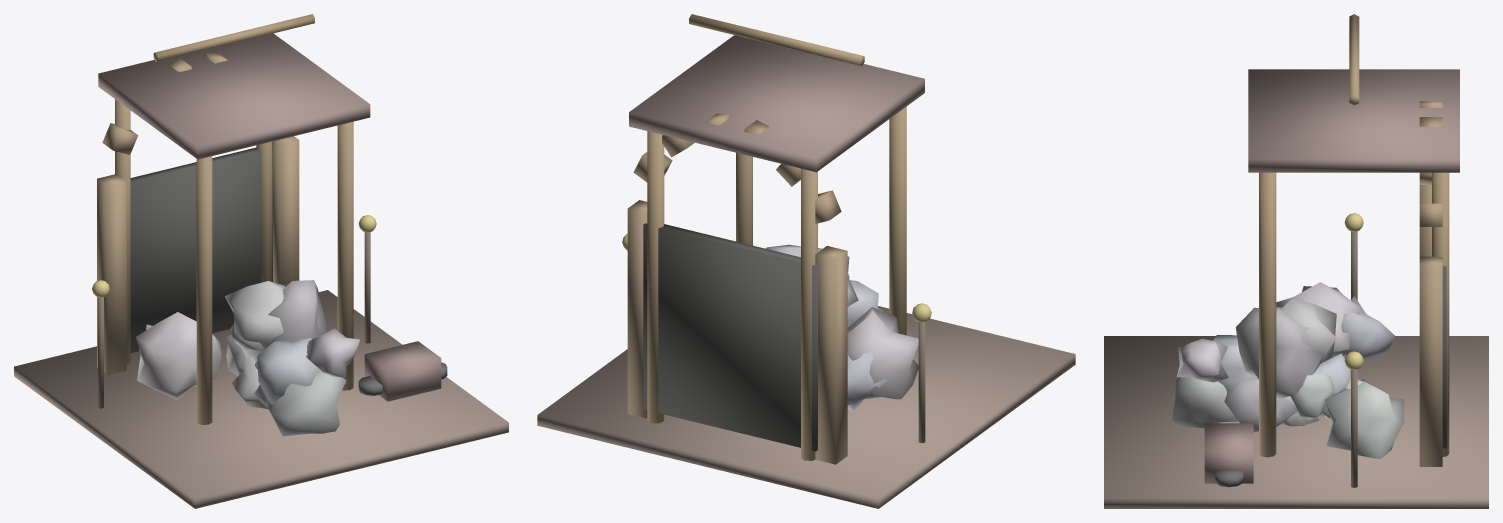
Rendered from ore_silver_large.glb.
3 renders of one model, left to right at view 1: azimuth 30°, elevation 25°; view 2: azimuth 150°, elevation 25°; view 3: azimuth 270°, elevation 25°, orthographic. The views are drawn at different scales.
Visible parts, largest first — view 1: ore_base, tower_platform, arch_dark, arch_post-1, tower_post2, ore10, arch_post1, tower_post3, cart_body, ore4, ore12, ore11 (+10 smaller); view 2: ore_base, arch_dark, tower_platform, arch_post-1, ore10, tower_post1, tower_post2, arch_post1, tower_post0, tower_beam, tower_post3, ore7 (+3 smaller); view 3: ore_base, tower_platform, tower_post3, arch_post1, ore2, ore15, cart_body, ore4, tower_post1, ore12, ore7, ore13 (+12 smaller).
Boxes of the visible parts, box(x1,y1,x2,y2) form: ore_base: box(14, 290, 508, 508); tower_platform: box(98, 33, 370, 159); arch_dark: box(130, 147, 272, 353); arch_post-1: box(97, 174, 126, 375); tower_post2: box(196, 156, 212, 424); ore10: box(135, 312, 222, 399); arch_post1: box(272, 136, 299, 284); tower_post3: box(337, 121, 353, 390); cart_body: box(364, 341, 441, 401); ore4: box(266, 370, 346, 436); ore12: box(225, 281, 284, 361); ore11: box(257, 338, 318, 404); ore_base: box(537, 306, 1075, 508); arch_dark: box(643, 223, 817, 451); tower_platform: box(629, 35, 924, 172); arch_post-1: box(815, 246, 847, 464); ore10: box(847, 307, 918, 399); tower_post1: box(647, 131, 664, 423); tower_post2: box(889, 106, 906, 335); arch_post1: box(627, 200, 647, 418); tower_post0: box(801, 168, 817, 460); tower_beam: box(689, 14, 864, 65); tower_post3: box(736, 152, 752, 245); ore7: box(847, 351, 887, 412); ore_base: box(1104, 336, 1488, 508); tower_platform: box(1248, 69, 1459, 172); tower_post3: box(1259, 172, 1276, 457); arch_post1: box(1419, 256, 1442, 466); ore2: box(1324, 382, 1404, 458); ore15: box(1235, 307, 1323, 399); cart_body: box(1204, 423, 1253, 483); ore4: box(1172, 377, 1237, 428); tower_post1: box(1432, 172, 1449, 456); ore12: box(1276, 299, 1336, 363); ore7: box(1333, 296, 1394, 360); ore13: box(1177, 338, 1228, 382).
Bounding box in the file's own units: 40 × 43.93 × 40.
